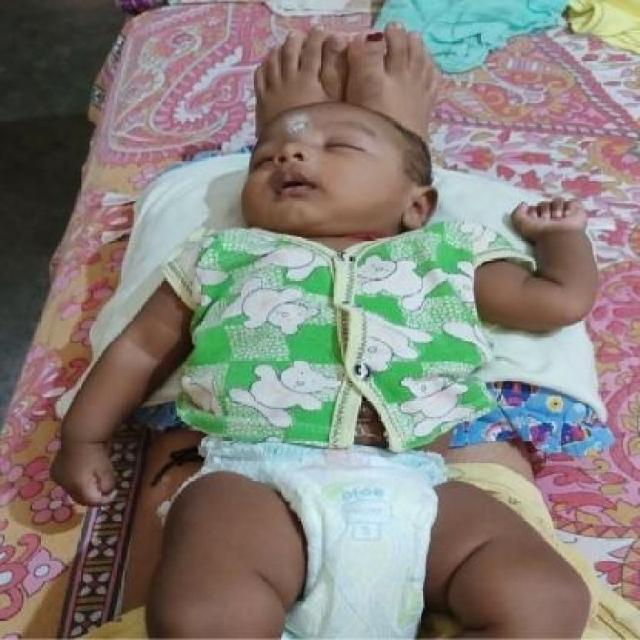baby: (47, 96, 598, 638)
